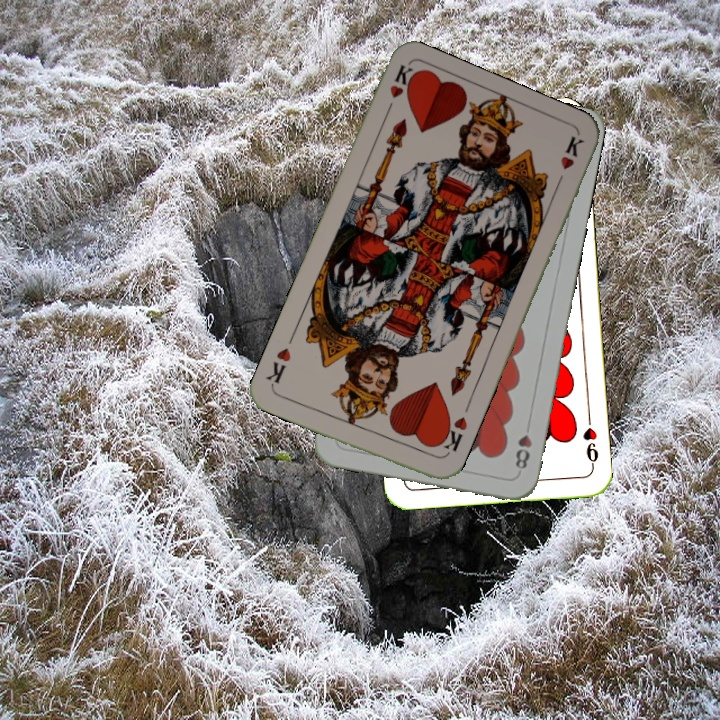H8: (511, 431, 535, 472)
H9: (579, 411, 601, 471)
HK: (380, 61, 419, 119), (433, 412, 470, 460)
